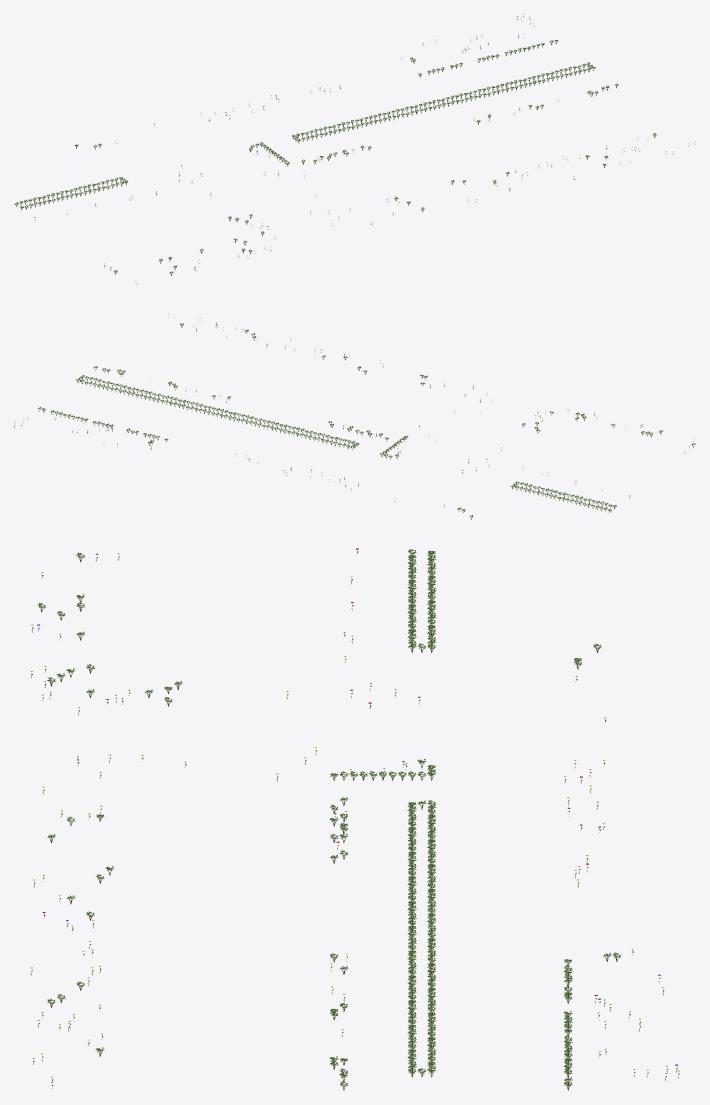
3 renders of one model, top to bottom at view 1: azimuth 30°, elevation 25°; view 2: azimuth 150°, elevation 25°; view 3: azimuth 270°, elevation 25°, orthographic. The views are drawn at different scales.
Visible parts, largest first — view 1: GROUND_FLORA_s_-6_5; view 2: GROUND_FLORA_s_-6_5; view 3: GROUND_FLORA_s_-6_5.
Part boxes in pixels (<box>): GROUND_FLORA_s_-6_5: <box>14,14,695,283</box>; GROUND_FLORA_s_-6_5: <box>14,313,695,519</box>; GROUND_FLORA_s_-6_5: <box>30,548,679,1090</box>.
Bounding box in the file's own units: 128 × 1.97 × 66.7.
